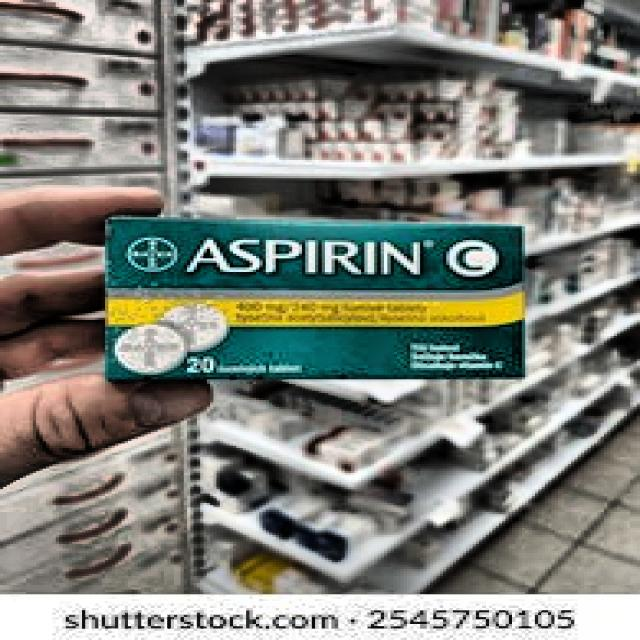Aspirin: (110, 221, 520, 297)
